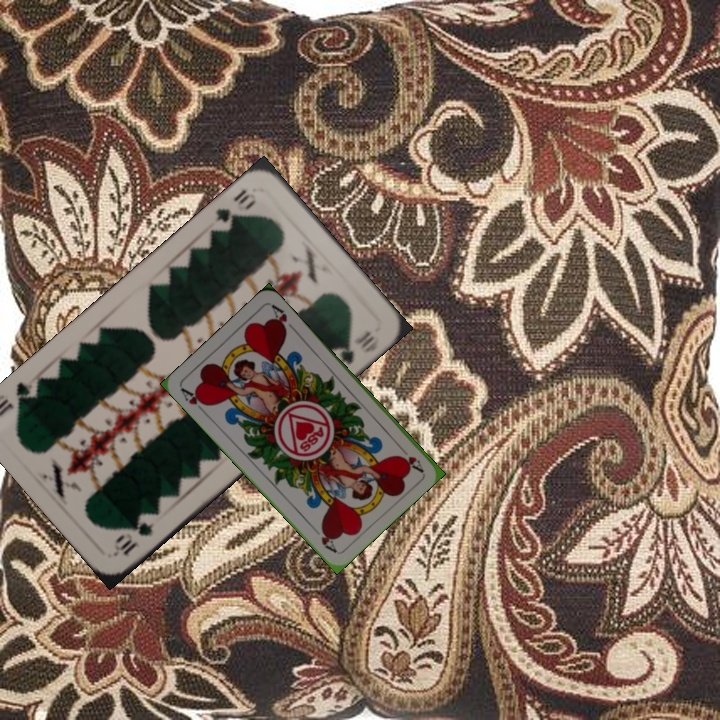G10: (211, 185, 259, 229), (109, 518, 158, 558)
HA: (177, 384, 211, 417), (394, 441, 425, 474)
